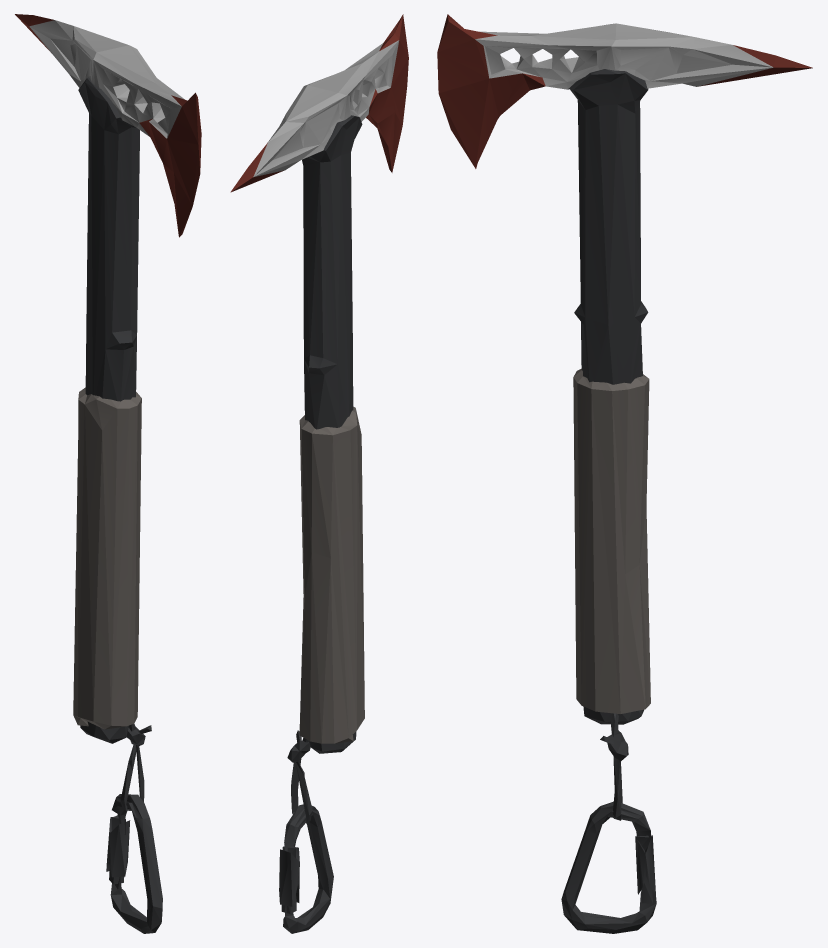
File: bolta p.fbx
The picture shows the model from 3 angles, left to right: view 1: azimuth 30°, elevation 25°; view 2: azimuth 150°, elevation 25°; view 3: azimuth 270°, elevation 25°; orthographic projection. The views are drawn at different scales.
Parts seen in each view (by area): view 1: cr.002; view 2: cr.002; view 3: cr.002.
Boxes of the visible parts, x1=… form: cr.002: x1=15, y1=14, x2=201, y2=933; cr.002: x1=230, y1=14, x2=408, y2=933; cr.002: x1=437, y1=14, x2=812, y2=933.
Size of the model in its own units: 308 by 3855 by 1447.
Materials: 1 (1 with a texture image).
